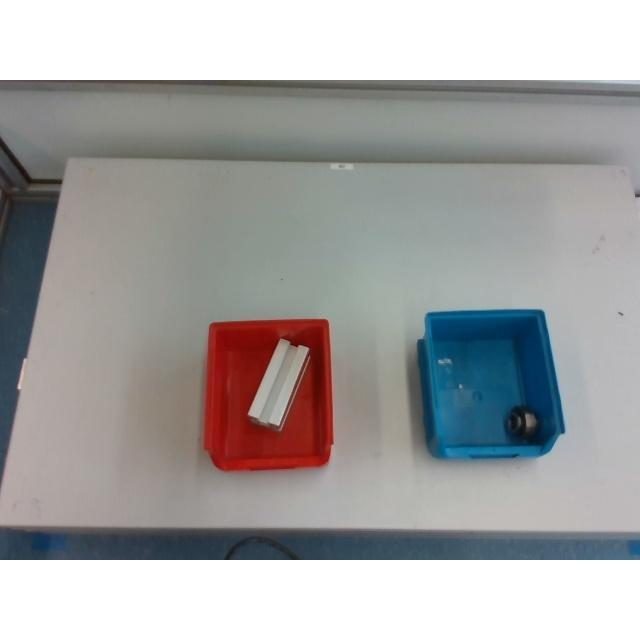Bearing2: (504, 405, 540, 443)
S40_40_G: (247, 338, 309, 429)
container_box_blue: (418, 310, 564, 458)
container_box_red: (204, 318, 332, 470)
